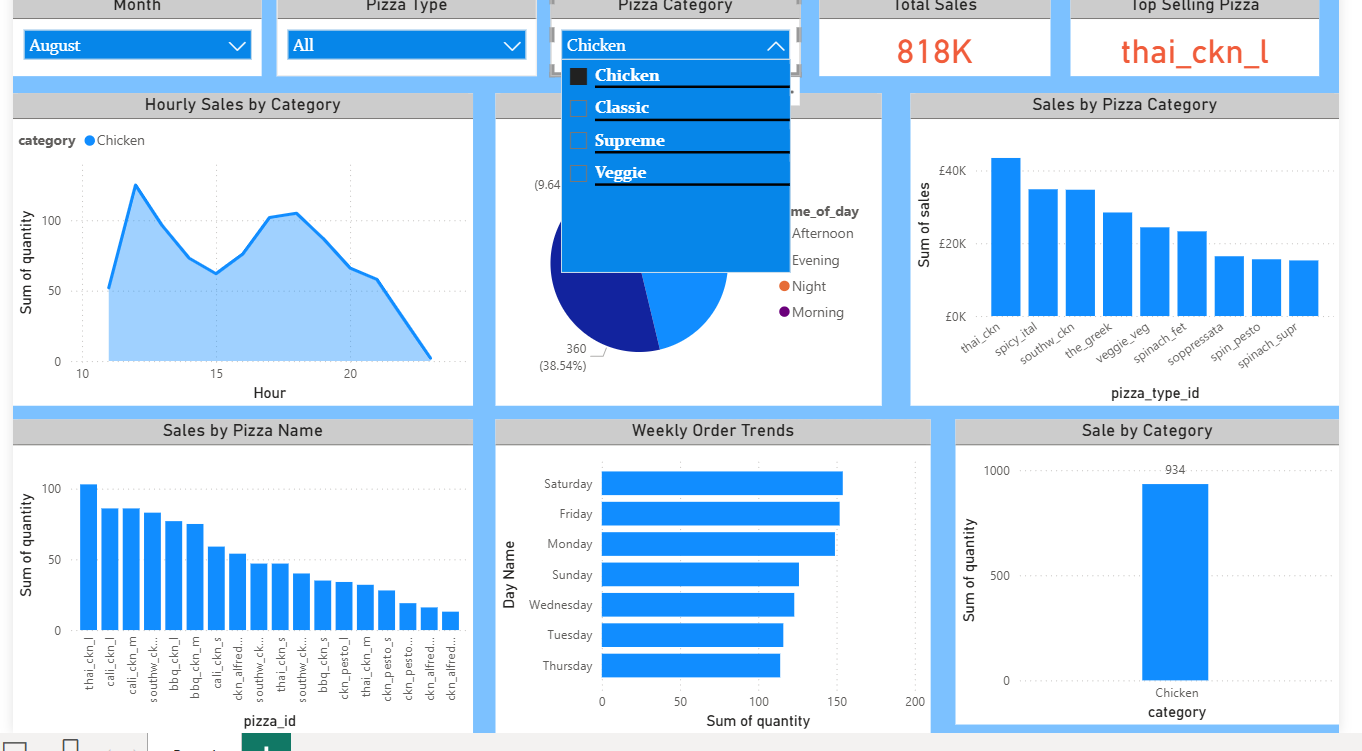

What the dashboard file says about the page in this screenshot:
{"tool":"powerbi","page":{"name":"Page 1","canvas":[1280,720],"ordinal":0},"visuals":[{"type":"clusteredBarChart","fields":{"Category":["orders.Day Name"],"Y":["Sum(order_details.quantity)"]},"box":[10,0,304.3,305.7],"z":0},{"type":"columnChart","fields":{"Category":["order_details.pizza_id"],"Y":["Sum(order_details.quantity)"]},"box":[10,360,372.9,360],"z":1},{"type":"pieChart","fields":{"Y":["Sum(order_details.quantity)"],"Category":["orders.Time_of_day"]},"box":[348.6,0,372.9,268.6],"z":2},{"type":"columnChart","title":"Hot selling Category of pizza","fields":{"Category":["pizza_types.category"],"Y":["Sum(order_details.quantity)"]},"box":[422.9,360,374.3,358.6],"z":3},{"type":"card","fields":{"Values":["pizzas.Total Sales"]},"box":[677.1,0,278.6,82.9],"z":6},{"type":"card","fields":{"Values":["order_details.Most Ordered Pizza"]},"box":[887.1,14.3,352.9,82.9],"z":7},{"type":"columnChart","fields":{"Y":["CountNonNull(pizzas.sales)"],"Category":["pizzas.pizza_type_id"]},"box":[817.1,422.9,318.6,297.1],"z":8},{"type":"lineChart","fields":{"Y":["Sum(order_details.order_details_id)"],"Category":["orders.Hour"]},"box":[898.6,157.1,300,235.7],"z":9},{"type":"qnaVisual","box":[1130,422.9,150,297.1],"z":10}]}

Visuals, with their boxes in screenshot pixels (x1, y1, x2, y2), scaled from the page's 1280x720 canvas onto the 1362x751 screenshot:
clusteredBarChart - orders.Day Name x Sum(order_details.quantity): {"x1": 11, "y1": 0, "x2": 334, "y2": 319}
columnChart - order_details.pizza_id x Sum(order_details.quantity): {"x1": 11, "y1": 376, "x2": 407, "y2": 750}
pieChart - Sum(order_details.quantity) x orders.Time_of_day: {"x1": 371, "y1": 0, "x2": 768, "y2": 280}
"Hot selling Category of pizza" columnChart: {"x1": 450, "y1": 376, "x2": 848, "y2": 750}
card - pizzas.Total Sales: {"x1": 720, "y1": 0, "x2": 1017, "y2": 86}
card - order_details.Most Ordered Pizza: {"x1": 944, "y1": 15, "x2": 1319, "y2": 101}
columnChart - CountNonNull(pizzas.sales) x pizzas.pizza_type_id: {"x1": 869, "y1": 441, "x2": 1208, "y2": 750}
lineChart - Sum(order_details.order_details_id) x orders.Hour: {"x1": 956, "y1": 164, "x2": 1275, "y2": 410}
qnaVisual: {"x1": 1202, "y1": 441, "x2": 1361, "y2": 750}
